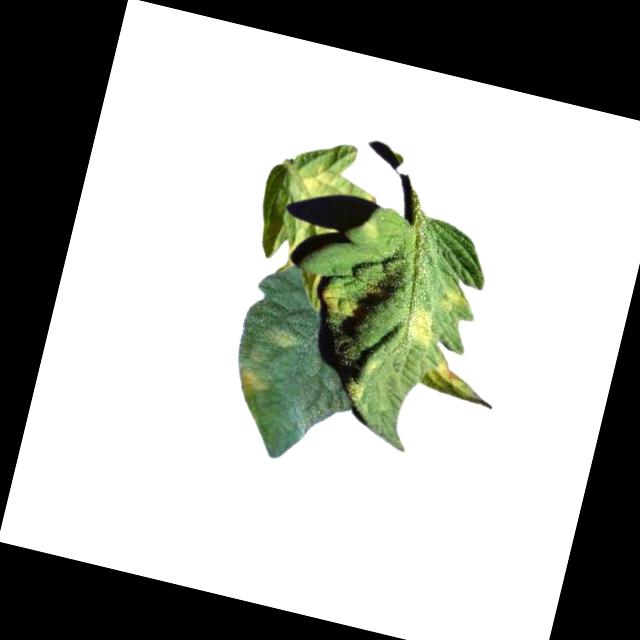Leaf_Mold: (419, 354, 496, 408), (291, 158, 340, 205), (314, 280, 361, 321), (400, 303, 438, 352), (230, 361, 273, 398), (260, 320, 304, 353), (432, 281, 477, 313)
